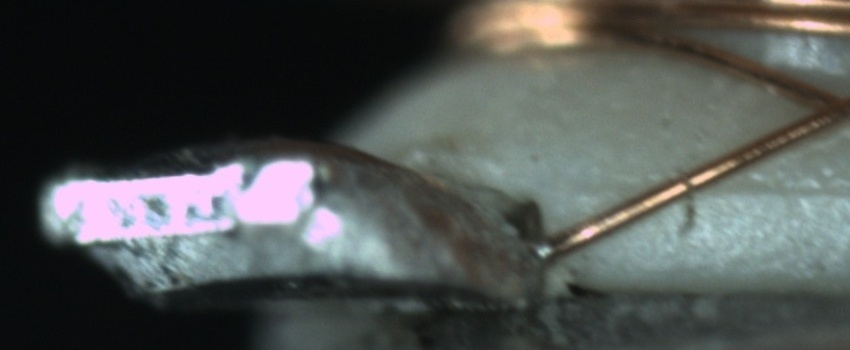CL: (782, 72, 848, 136)
DL: (600, 153, 849, 219)
